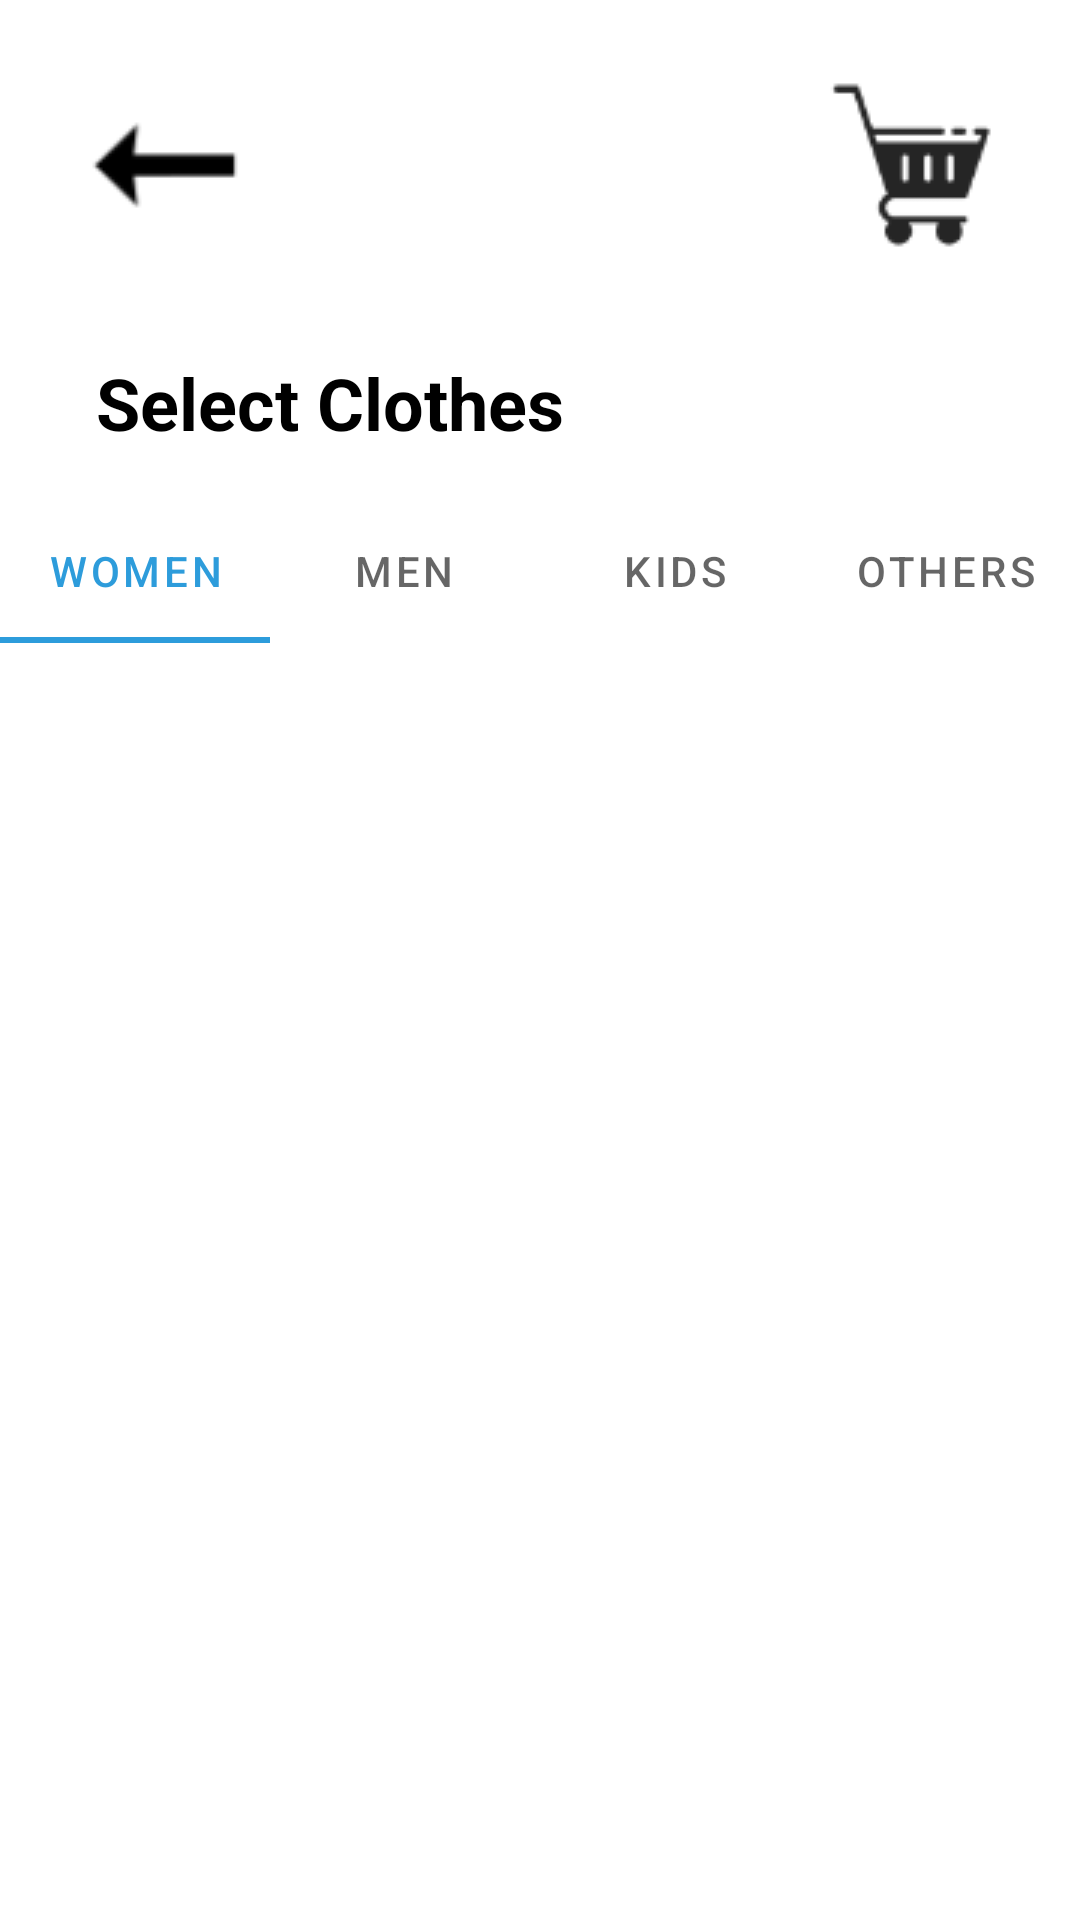

Icons on this 1080*1920 Android screen, each with the point to tap as (x,y):
back: (165,165)
cart: (912,165)
